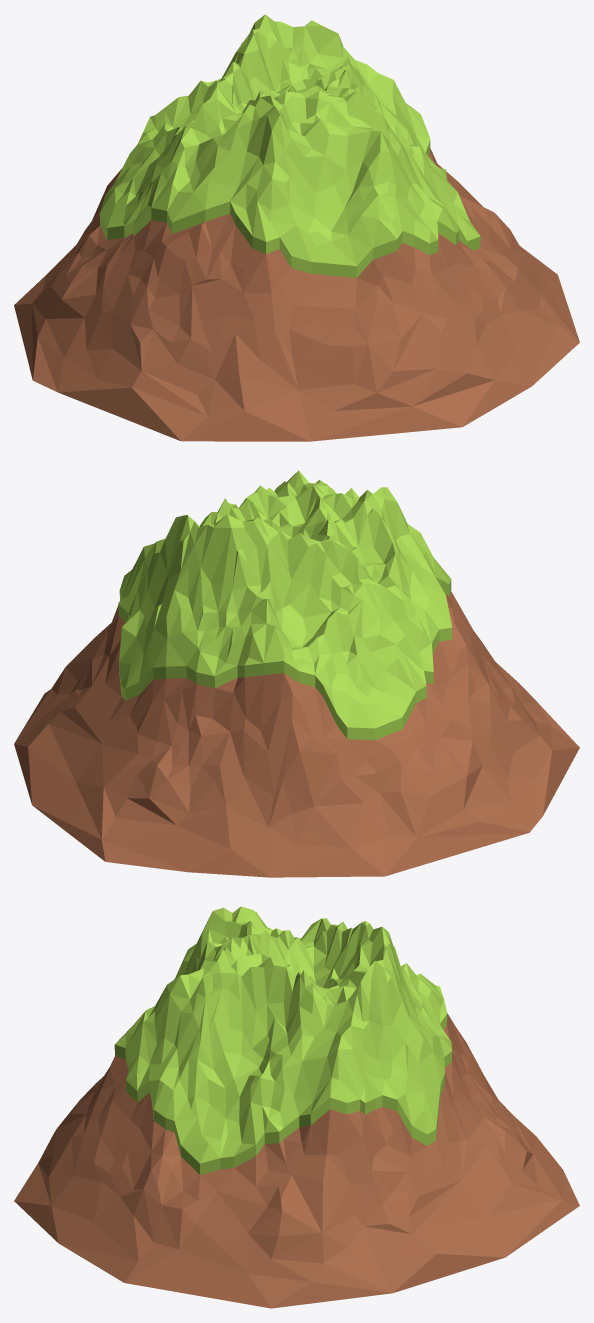
The model's file is smallMountain2.gltf.
3 views of the same model, one above another, from view 1: azimuth 30°, elevation 25°; view 2: azimuth 150°, elevation 25°; view 3: azimuth 270°, elevation 25° (orthographic). The views are drawn at different scales.
Parts seen in each view (by area): view 1: PP_Forest_Mountain_Moss_02.001; view 2: PP_Forest_Mountain_Moss_02.001; view 3: PP_Forest_Mountain_Moss_02.001.
Boxes of the visible parts, x1,y1,x2,y2 form: PP_Forest_Mountain_Moss_02.001: [14, 14, 579, 441]; PP_Forest_Mountain_Moss_02.001: [14, 470, 579, 877]; PP_Forest_Mountain_Moss_02.001: [14, 906, 579, 1308].
Bounding box in the file's own units: 40.42 × 21.3 × 40.42.
1 material, 1 textured.
